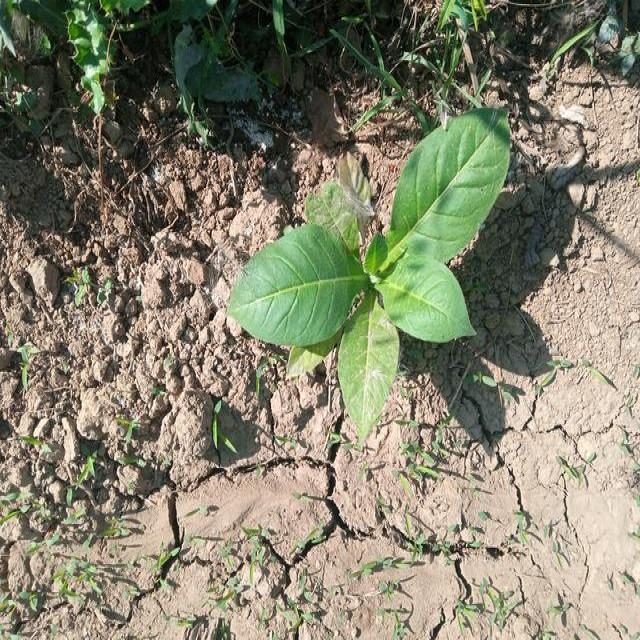crop: (226, 106, 512, 411)
